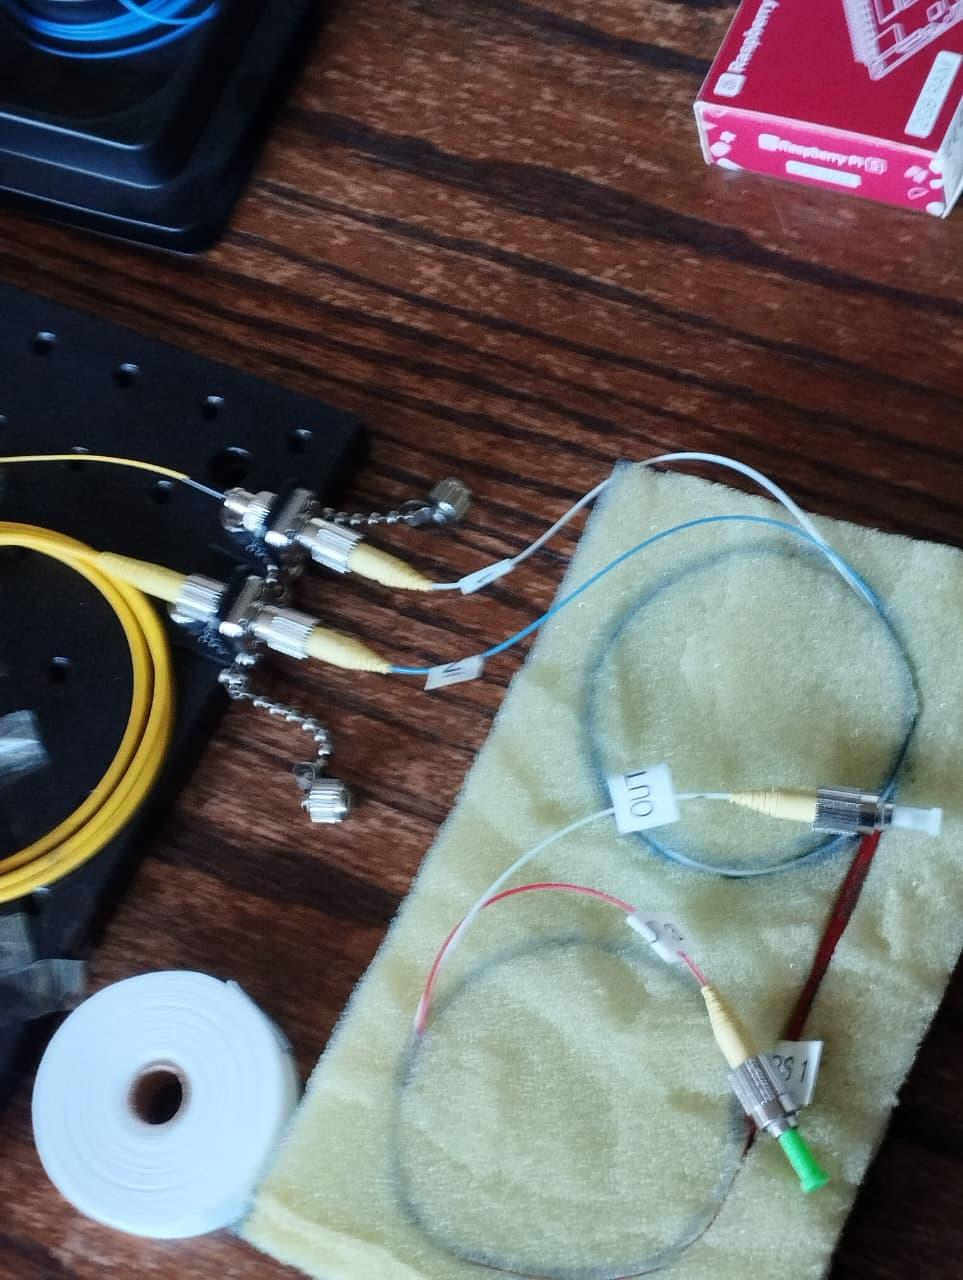fiber_cable: (0, 433, 256, 946)
